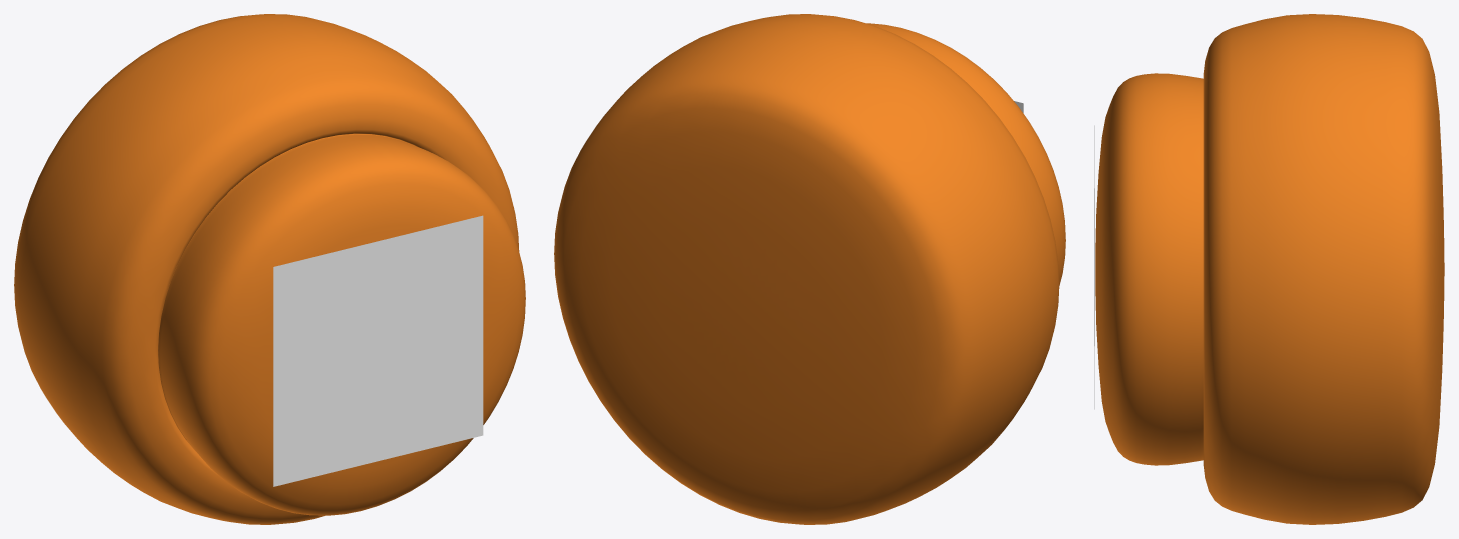
Rendered from 7_wrench.glb.
3 views of the same model, side by side, from view 1: azimuth 30°, elevation 25°; view 2: azimuth 150°, elevation 25°; view 3: azimuth 270°, elevation 25° (orthographic).
Parts seen in each view (by area): view 1: Button_Circle, wrench; view 2: Button_Circle; view 3: Button_Circle.
Boxes of the visible parts, bbox=[...] form: Button_Circle: bbox=[14, 14, 525, 524]; wrench: bbox=[273, 215, 483, 486]; Button_Circle: bbox=[554, 14, 1065, 524]; Button_Circle: bbox=[1095, 14, 1444, 524].
Bounding box in the file's own units: 0.2104 × 0.2104 × 0.144.
